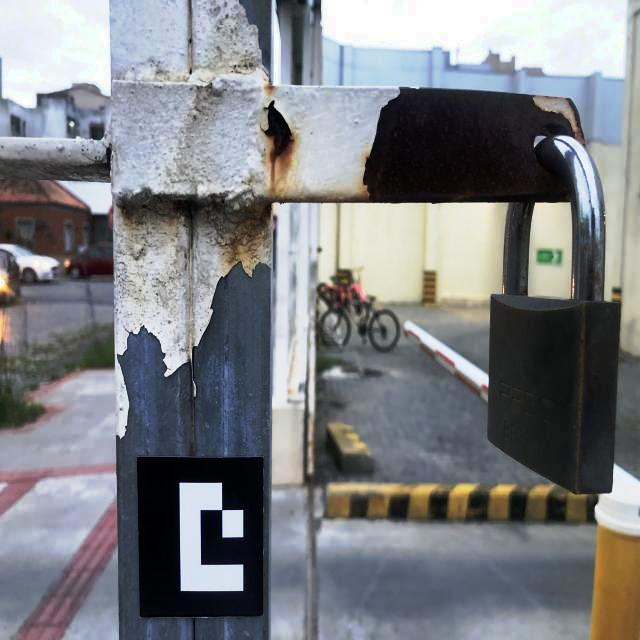Corrosion: (362, 87, 586, 203), (229, 200, 275, 252), (260, 99, 294, 160), (173, 199, 185, 213), (267, 82, 276, 90), (519, 287, 527, 295)
